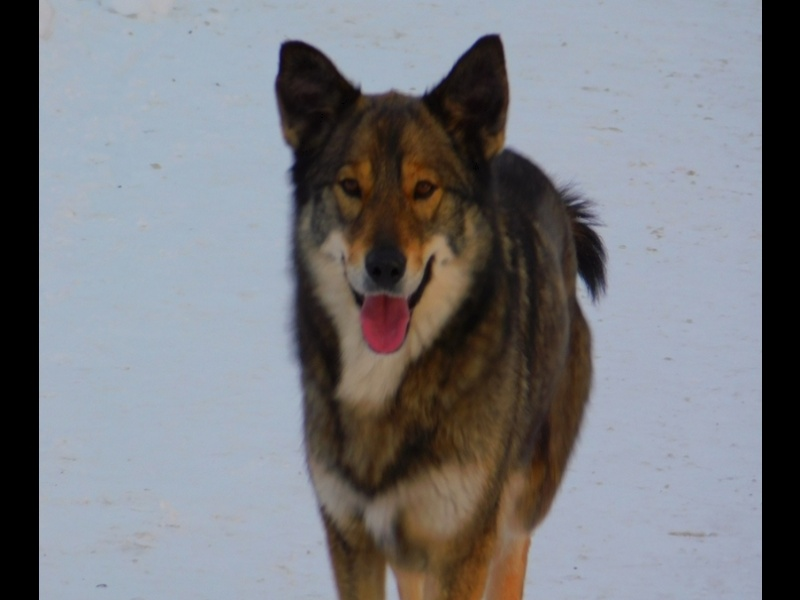dog: (269, 30, 610, 594)
